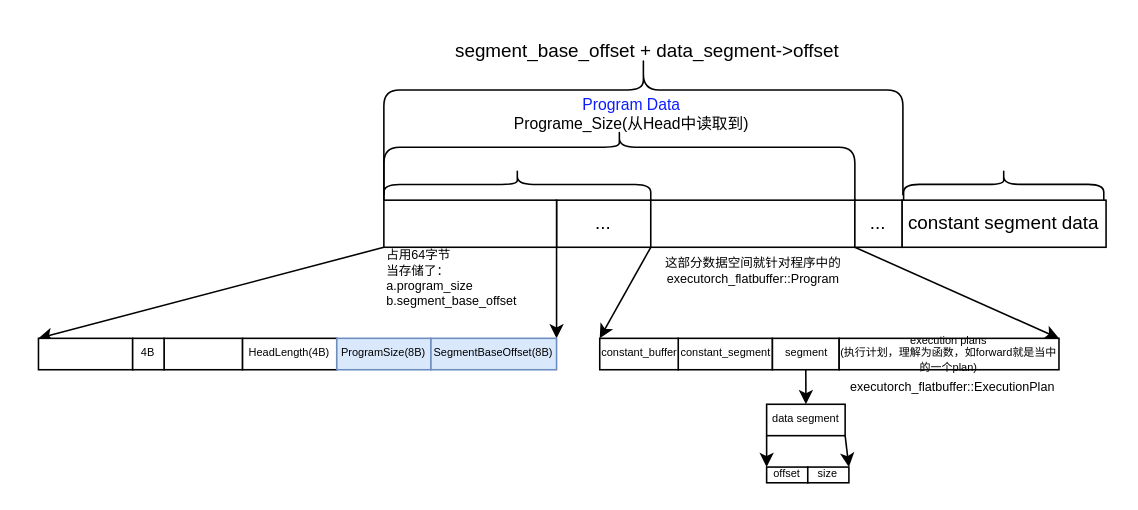
Some shapes in this 1138 by 510 pixel diagram are drawn without their labels. Each missing label, with the box of its shape:
const segment data_segment->size: (902, 167, 1104, 200)
Head: (382, 199, 557, 247)
MagicNum(4B): (162, 337, 243, 370)
root object offset: (382, 167, 651, 200)
root object offset (4B): (37, 337, 133, 370)
struct Program: (649, 199, 855, 247)
